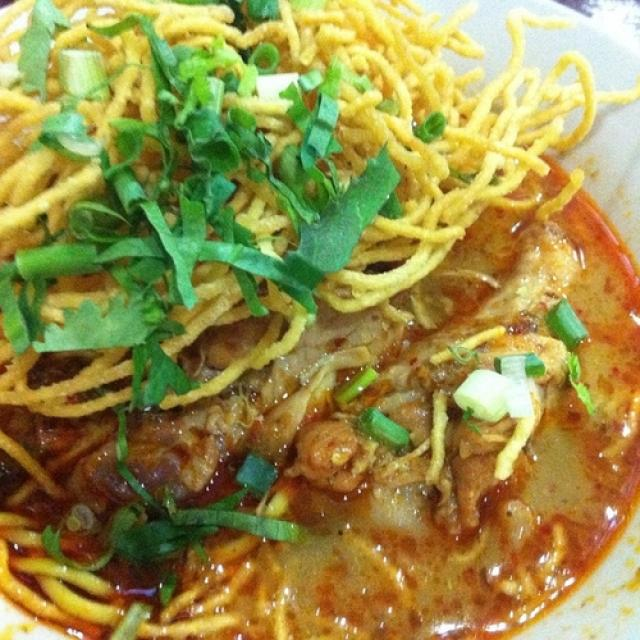面条主食: (8, 5, 620, 626)
